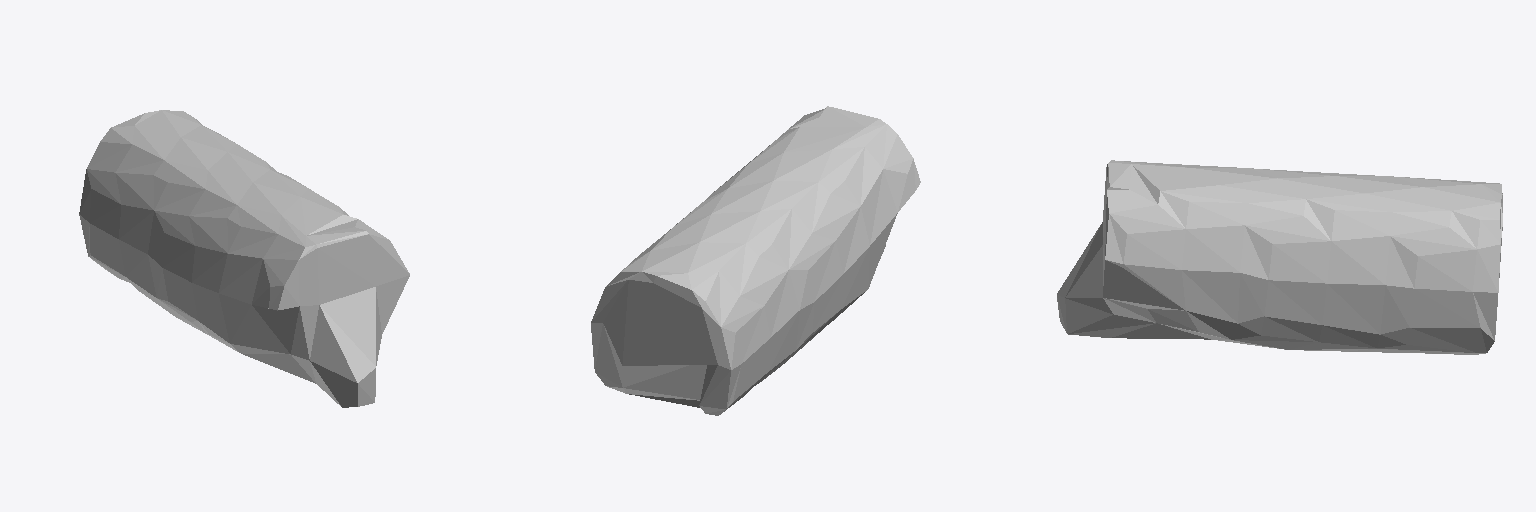
The model's file is sim_ecub_1-1_l_hand_thumb_2.obj.
The picture shows the model from 3 angles: view 1: azimuth 30°, elevation 25°; view 2: azimuth 150°, elevation 25°; view 3: azimuth 270°, elevation 25°; orthographic projection.
Bounding box in the file's own units: 16.89 × 18.74 × 46.63.